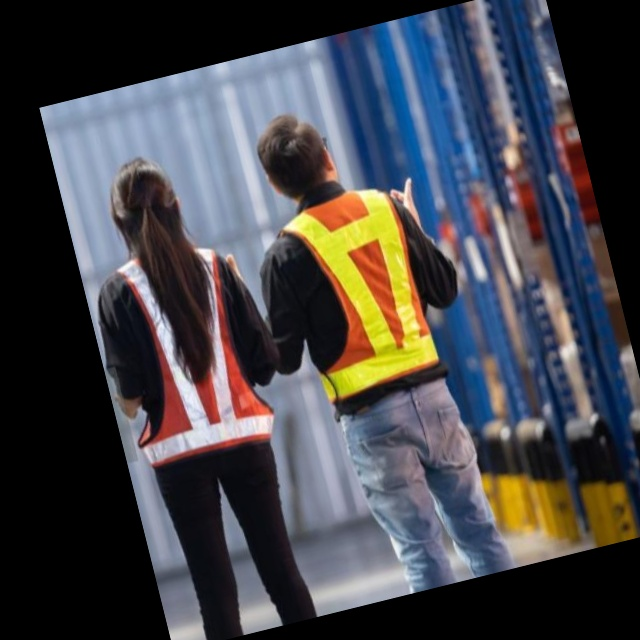Con_Chaleco: (97, 232, 278, 471), (270, 178, 443, 410)
Sin_Casco_Mascarrilla: (252, 103, 345, 209), (98, 149, 190, 256)
